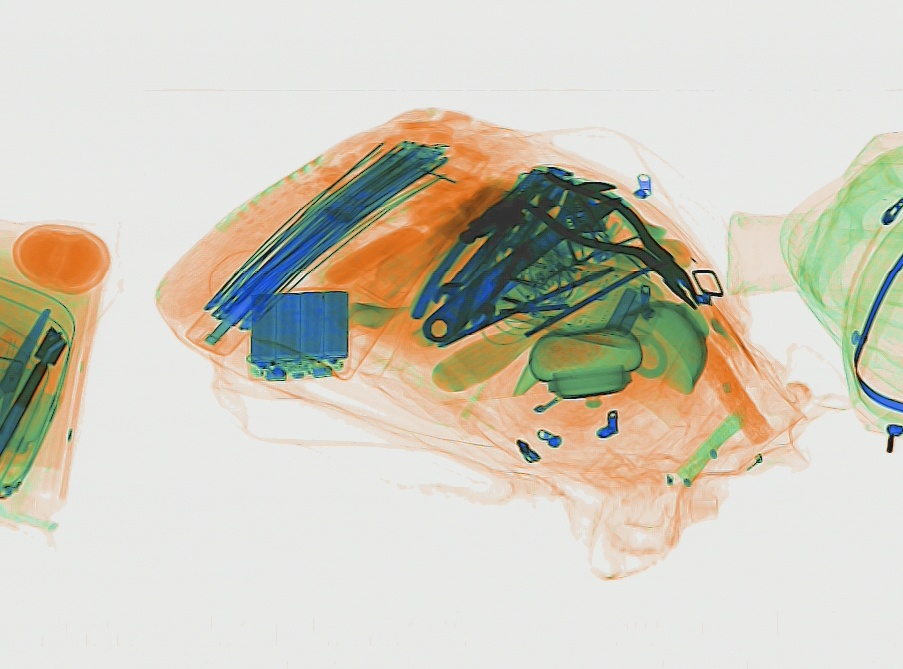powerbank: (242, 285, 355, 381)
scissors: (1, 302, 53, 423)
